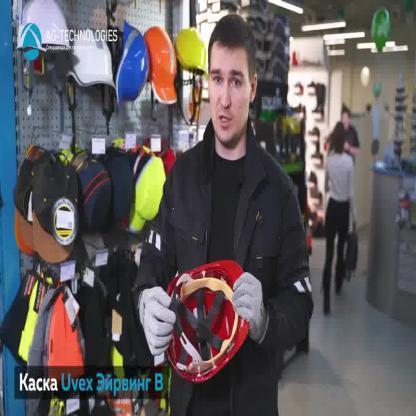gloves: (230, 270, 268, 340), (140, 284, 174, 356)
helmet: (162, 258, 252, 385), (115, 18, 151, 110), (68, 25, 118, 91), (15, 0, 74, 52), (142, 26, 180, 105), (173, 26, 208, 78)
